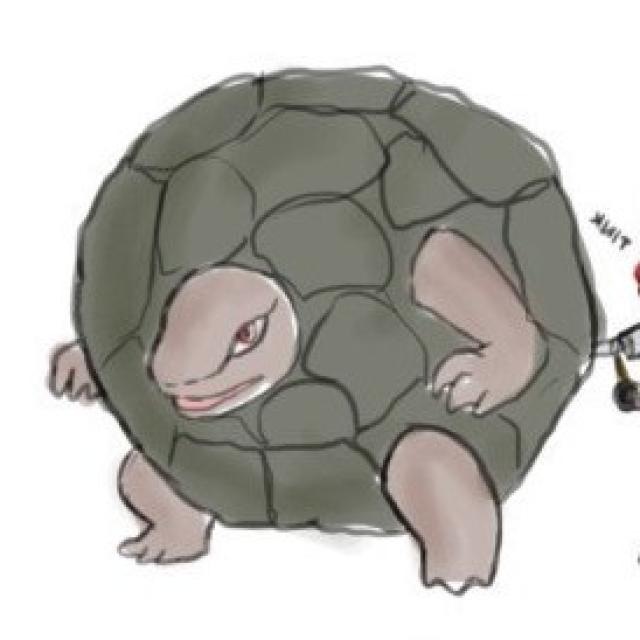Golem: (41, 59, 604, 594)
